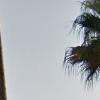Palm tree: (66, 1, 100, 75)
